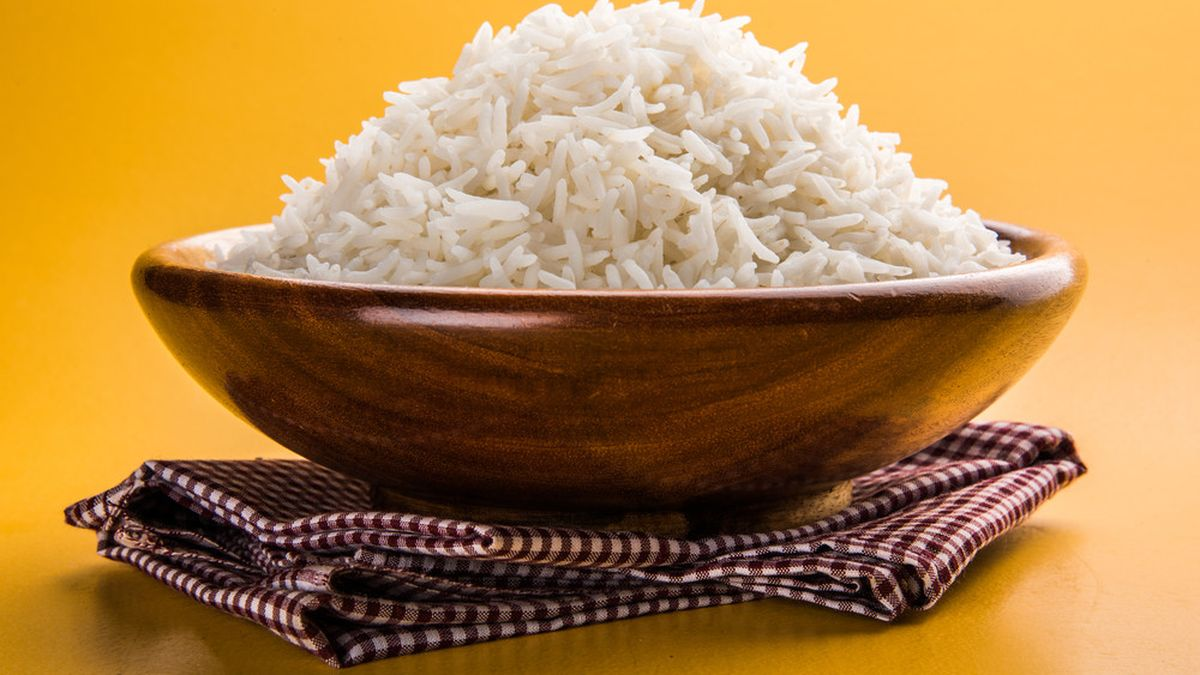Nasi Putih: (142, 5, 1056, 410)
